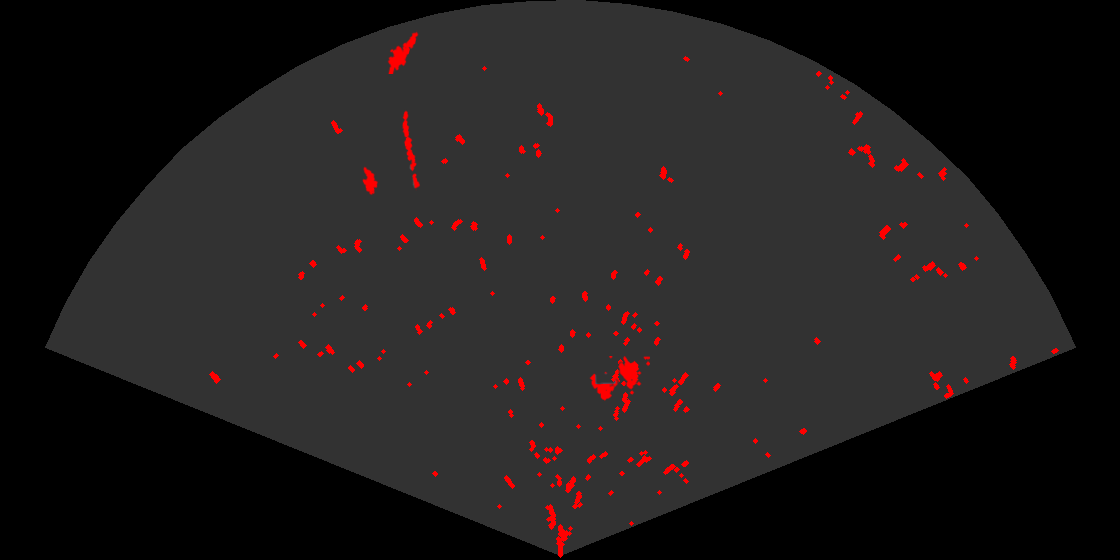AUV: (361, 165, 380, 197)
cage: (588, 356, 650, 402)
chain: (400, 109, 422, 191)
frogman: (386, 29, 420, 74)
